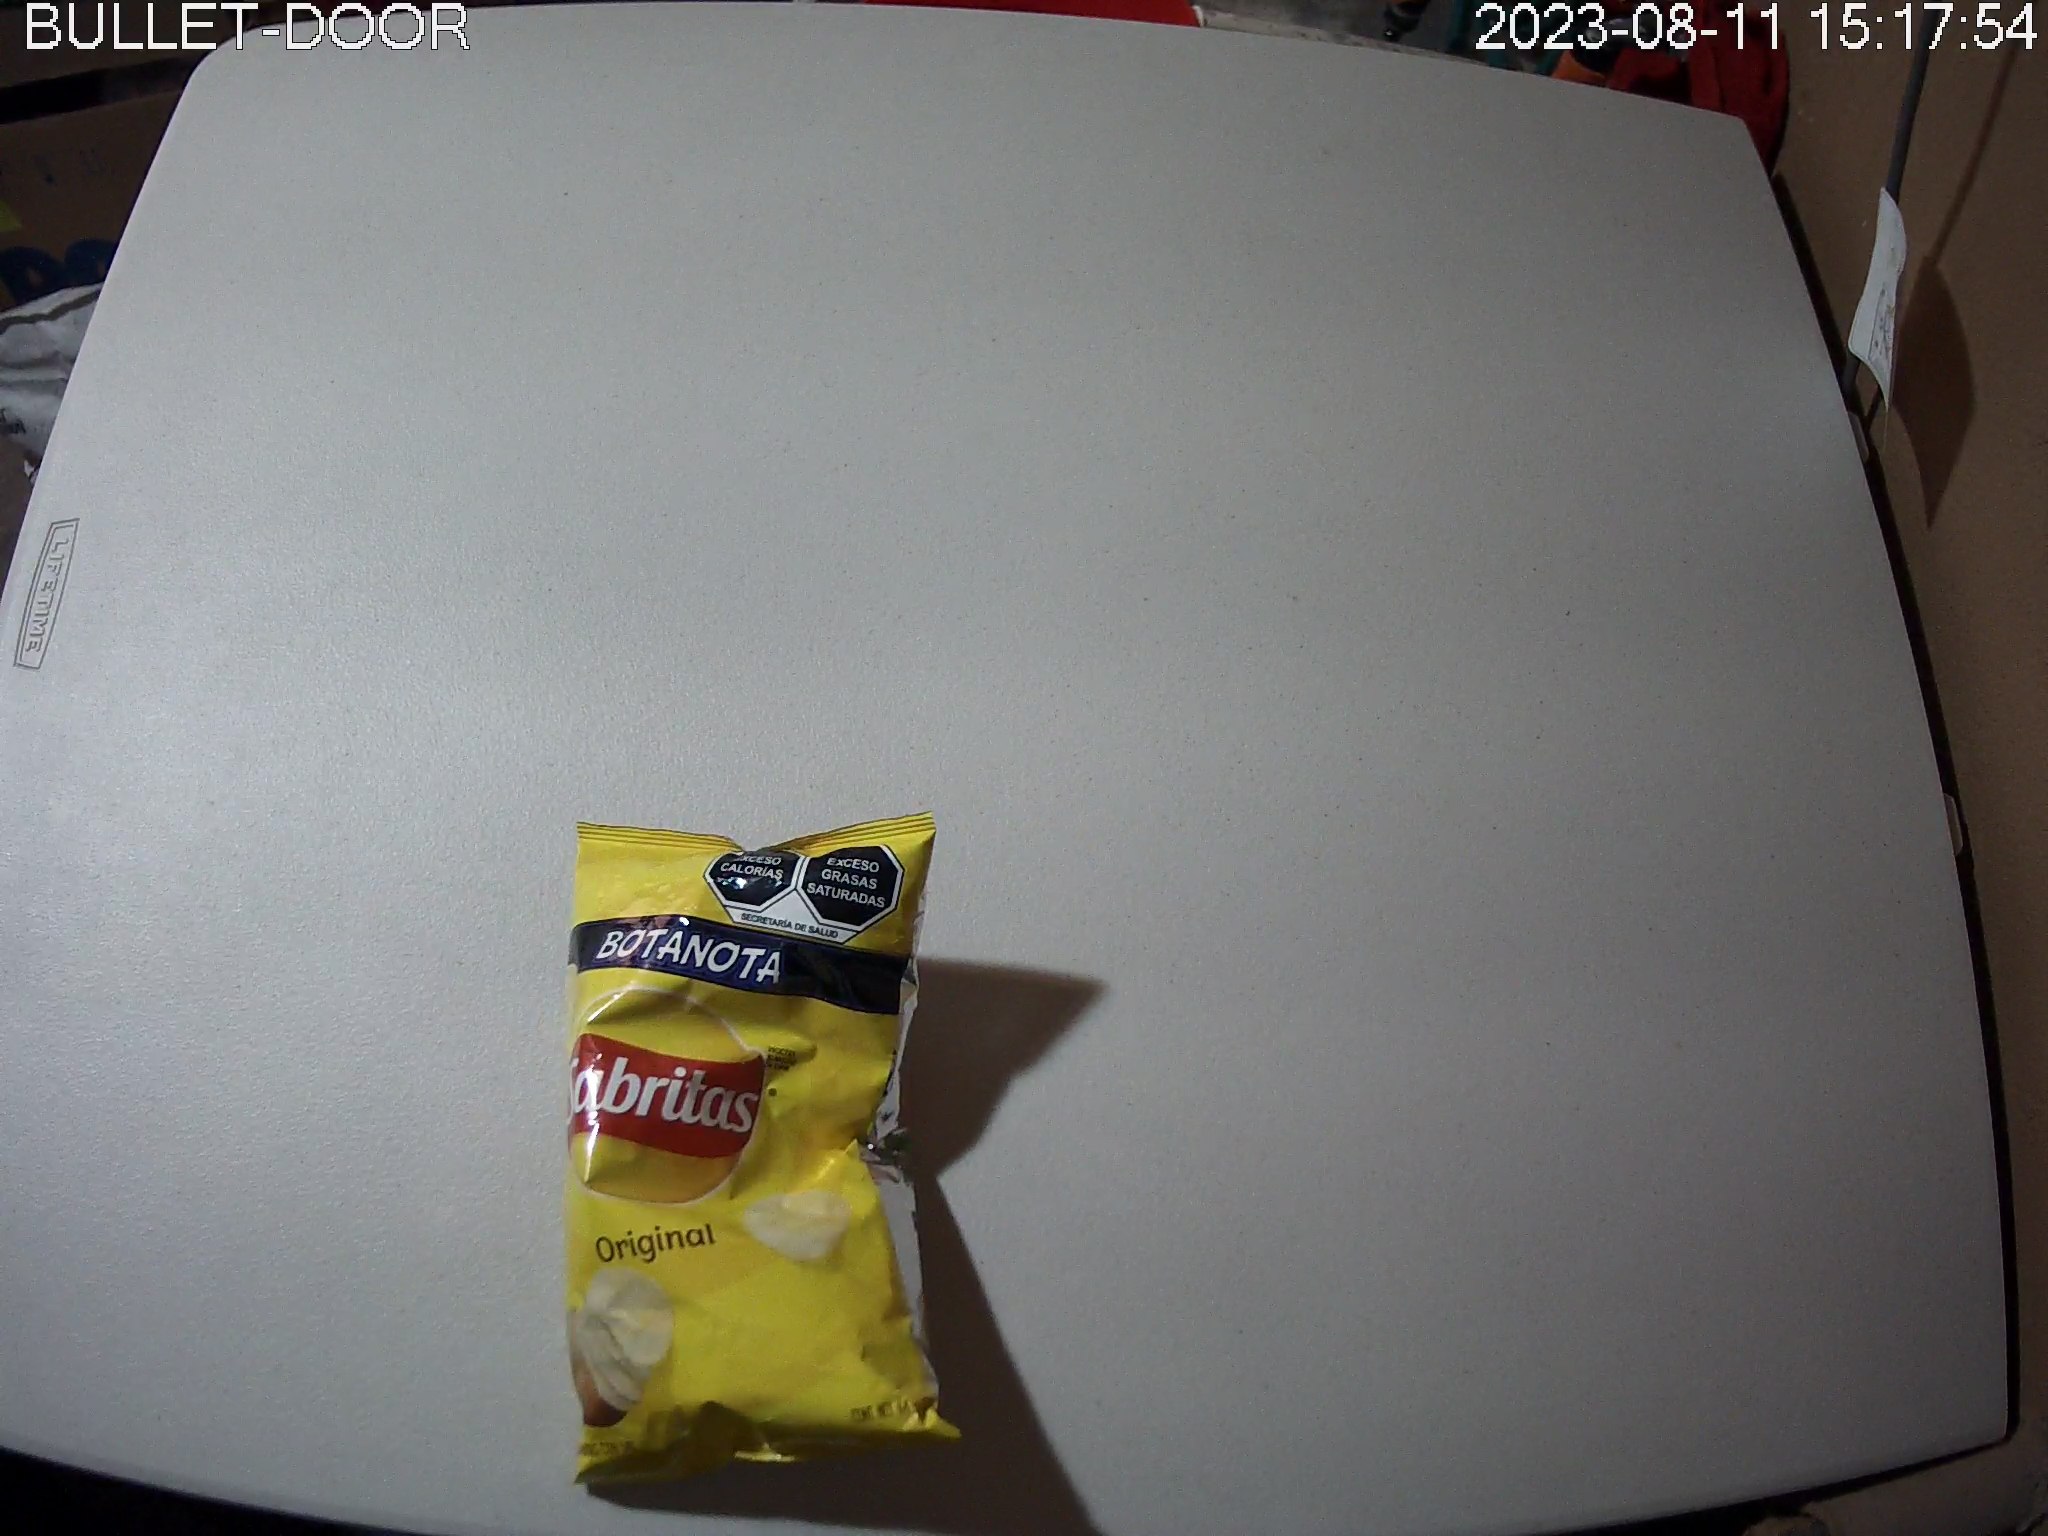Sabritas_64_F: (563, 812, 968, 1486)
